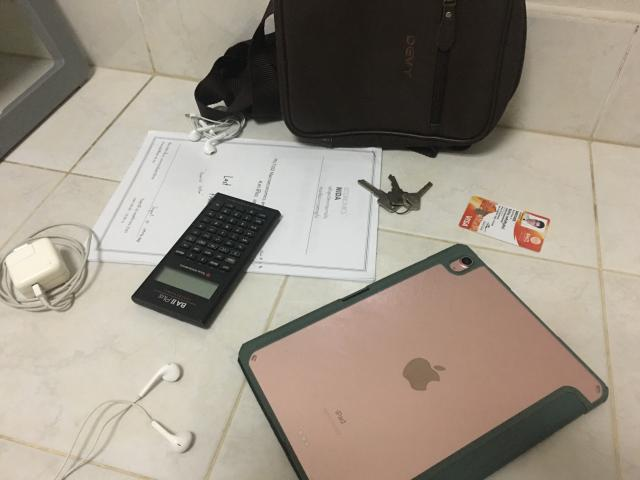Keys: (358, 175, 432, 215)
paper: (90, 131, 381, 281)
wire: (61, 362, 192, 479), (0, 222, 92, 311), (186, 112, 245, 155)
